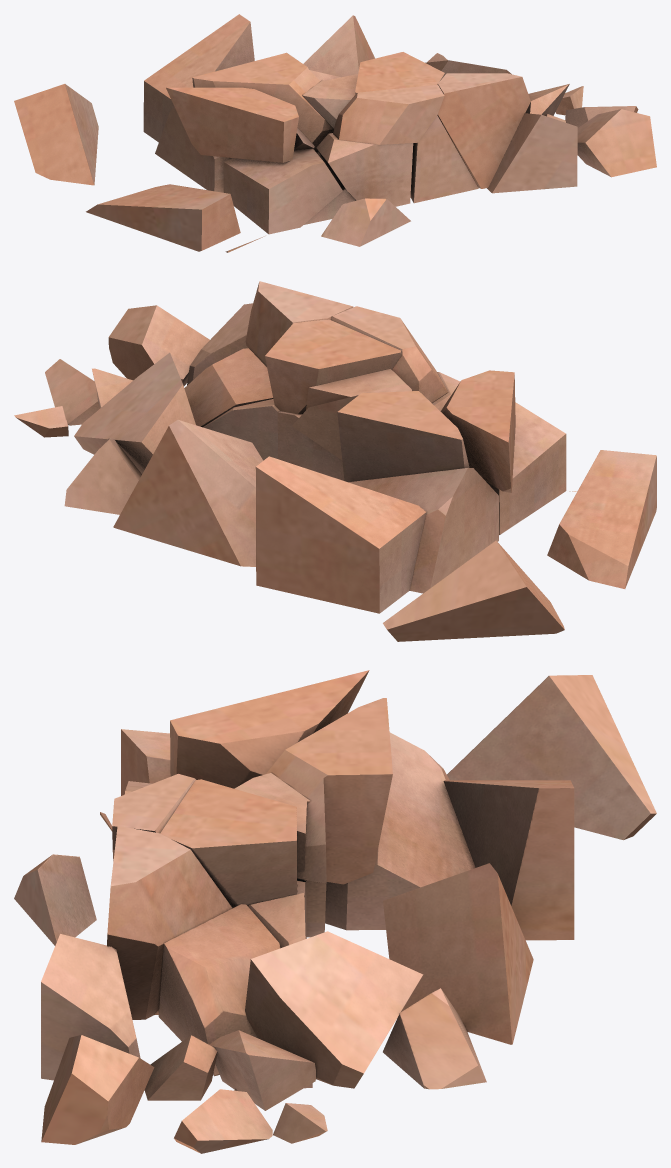
Rendered from muralla1.fbx.
The picture shows the model from 3 angles, top to bottom: view 1: azimuth 30°, elevation 25°; view 2: azimuth 150°, elevation 25°; view 3: azimuth 270°, elevation 25°; orthographic projection. The views are drawn at different scales.
Visible parts, largest first — view 1: Cube_cell.029; view 2: Cube_cell.029; view 3: Cube_cell.029.
Part boxes in pixels (bbox=[...]): Cube_cell.029: bbox=[14, 14, 656, 252]; Cube_cell.029: bbox=[14, 281, 656, 641]; Cube_cell.029: bbox=[14, 670, 656, 1153].
Bounding box in the file's own units: 1052 × 204 × 713.
